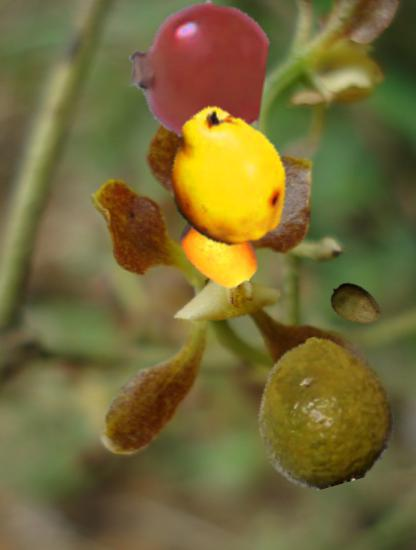Guava: (249, 337, 398, 486)
Kumquats: (176, 206, 263, 293)
Papaya: (328, 277, 384, 333)
Quince: (155, 102, 301, 248)
Redcurrant: (128, 0, 269, 141)
